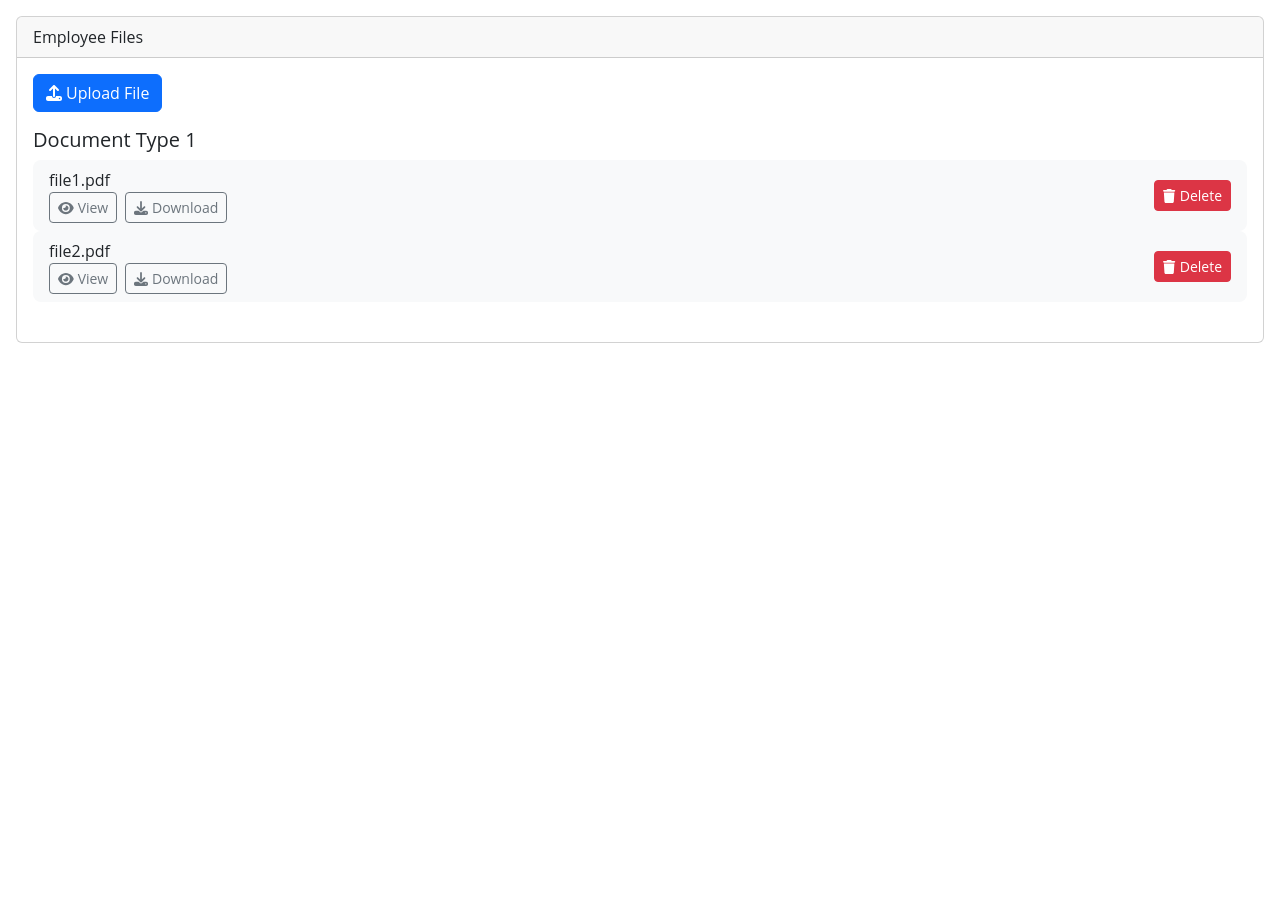
Scenario: PersonDocumentCard › handles file upload modal visibility
Click the upload button
Click the button "Upload File" at x=98, y=93, box x1=33 y1=74 x2=162 y2=112
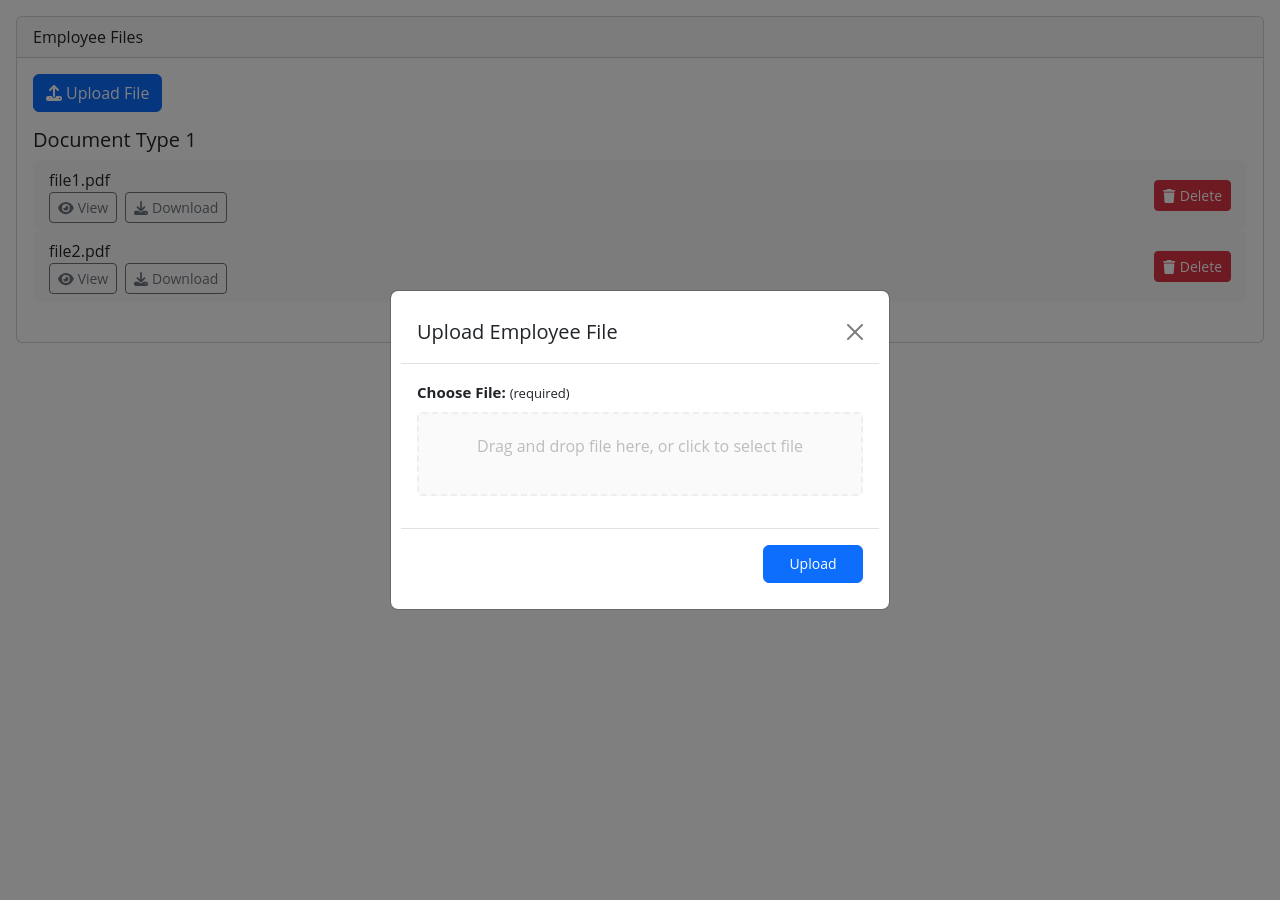
Check: the heading "Upload Employee File" is shown, box x1=417 y1=317 x2=618 y2=347
Check: the text "Choose File: (required)" is shown, box x1=417 y1=381 x2=570 y2=404
Check: the element showing "Drag and drop file here, or click to select file" is shown, box x1=417 y1=412 x2=863 y2=496
